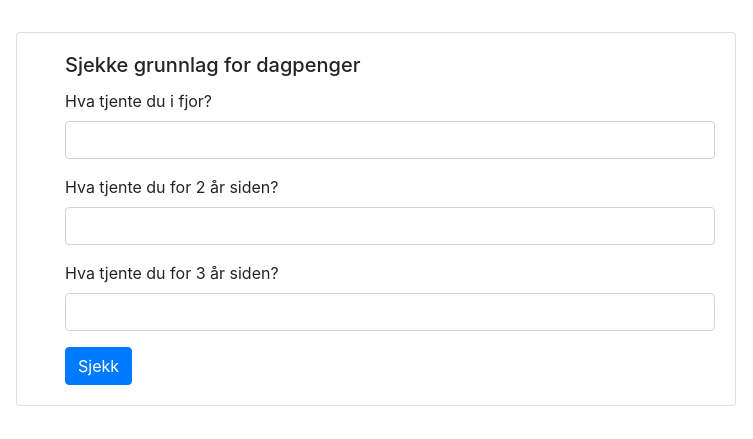
Test: test user interaction when response is not valid
In the field labelled "Hva tjente du i fjor?": (390, 140) [65,121,715,159], type "1000000"
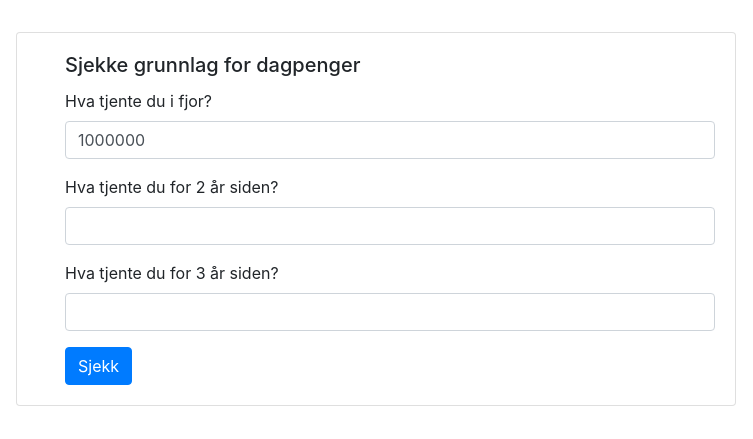
In the field labelled "Hva tjente du for 2 år siden?": (390, 226) [65,207,715,245], type "450000"
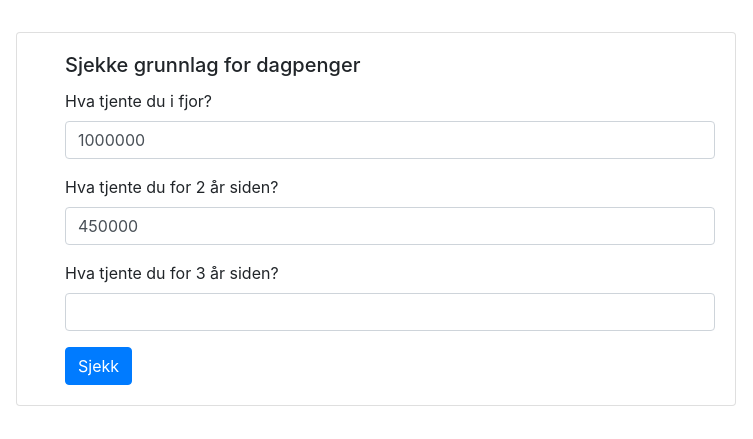
In the field labelled "Hva tjente du for 3 år siden?": (390, 312) [65,293,715,331], type "400000"
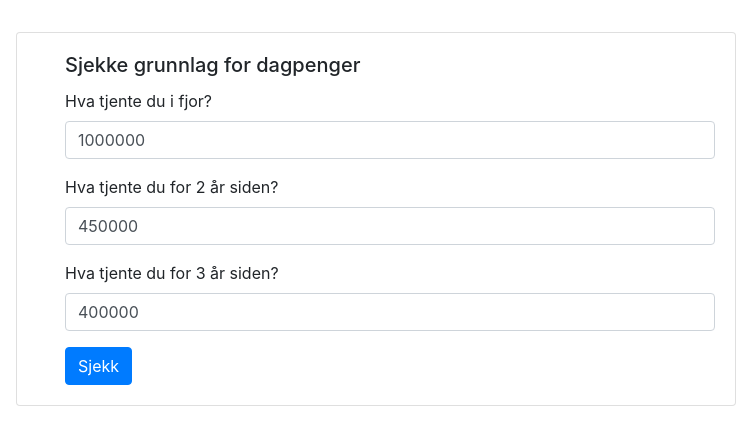
Click the button "Sjekk": (98, 366) [65,347,132,385]
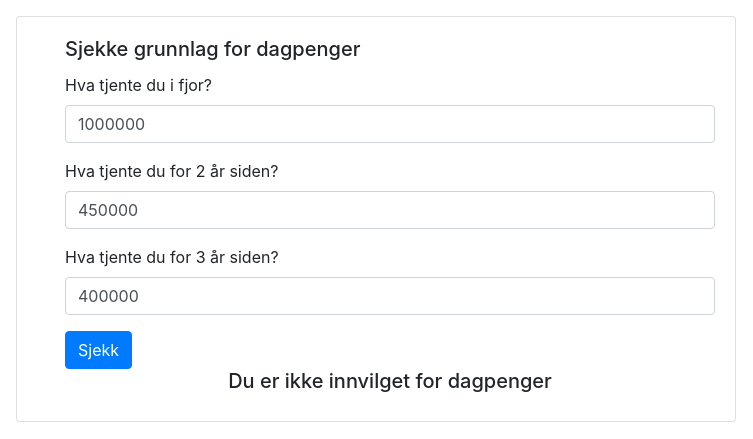
Now the heading "Du er ikke innvilget for dagpenger" is shown, box [228,369,552,393]
